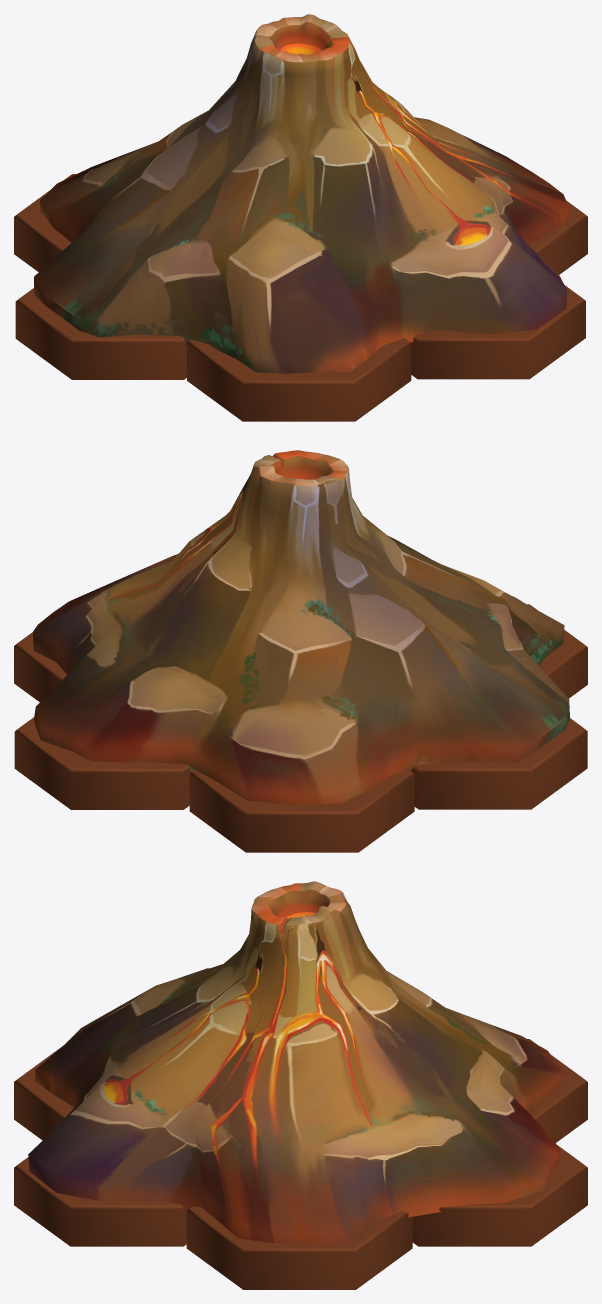
The model's file is vulcano_new.fbx.
3 views of the same model, one above another, from view 1: azimuth 30°, elevation 25°; view 2: azimuth 150°, elevation 25°; view 3: azimuth 270°, elevation 25° (orthographic).
Parts seen in each view (by area): view 1: volcano.001; view 2: volcano.001; view 3: volcano.001.
Boxes of the visible parts, x1=… form: volcano.001: x1=14, y1=14, x2=587, y2=421; volcano.001: x1=14, y1=450, x2=587, y2=852; volcano.001: x1=14, y1=881, x2=587, y2=1289.
Bounding box in the file's own units: 255 × 125 × 244.
Materials: 2 (2 with a texture image).
